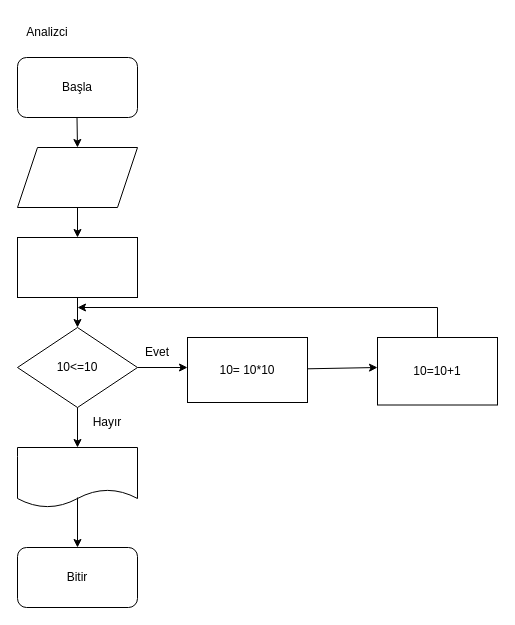
Some shapes in this 515 by 625 pixel diagram are drawn without their labels. The centre of each missing label's shape, as x and y in pixels:
"11",Sonuc: point 77,477
"Sayı Gir"(10): point 77,177
Sayac=10 Sonuc=10: point 77,267
